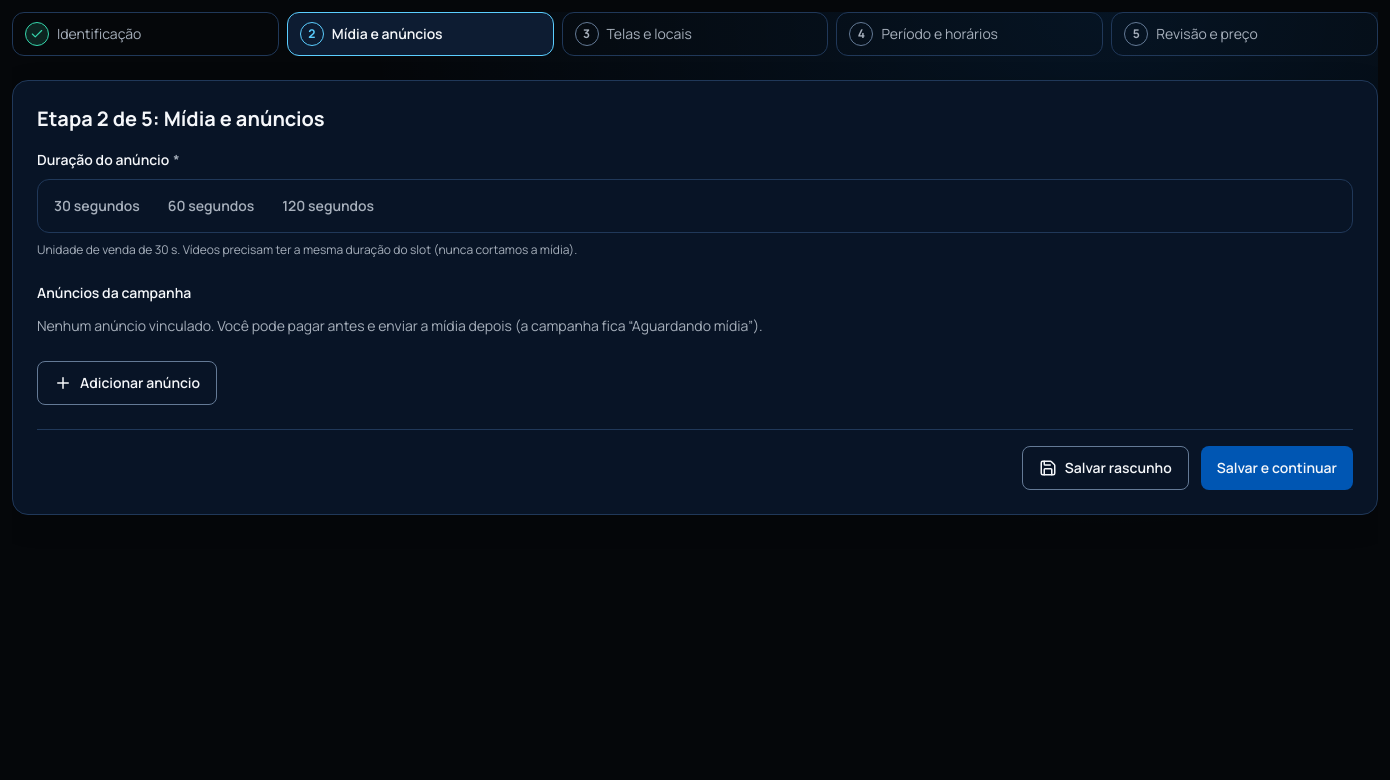
Test case: duração do anúncio: 30, 60 ou 120 s › duração legada inválida (45 s) é barrada no cliente e NÃO é enviada
Click the button "Salvar rascunho": (1105, 468) [1022, 446, 1189, 490]
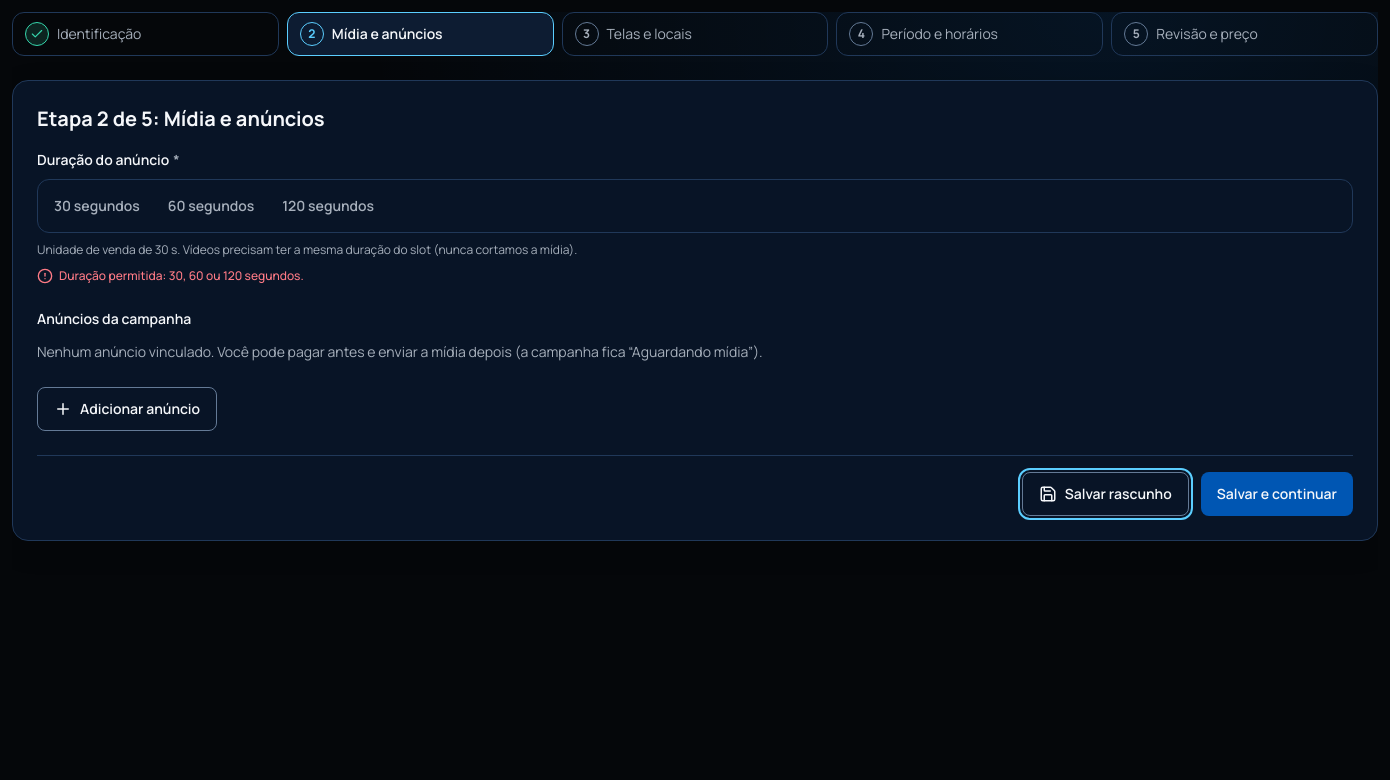
Expected: the text "Duração permitida: 30, 60 ou 120 segundos." is shown, [59, 267, 304, 285]
